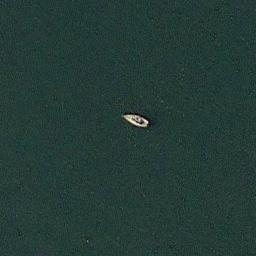boat: (120, 110, 150, 128)
